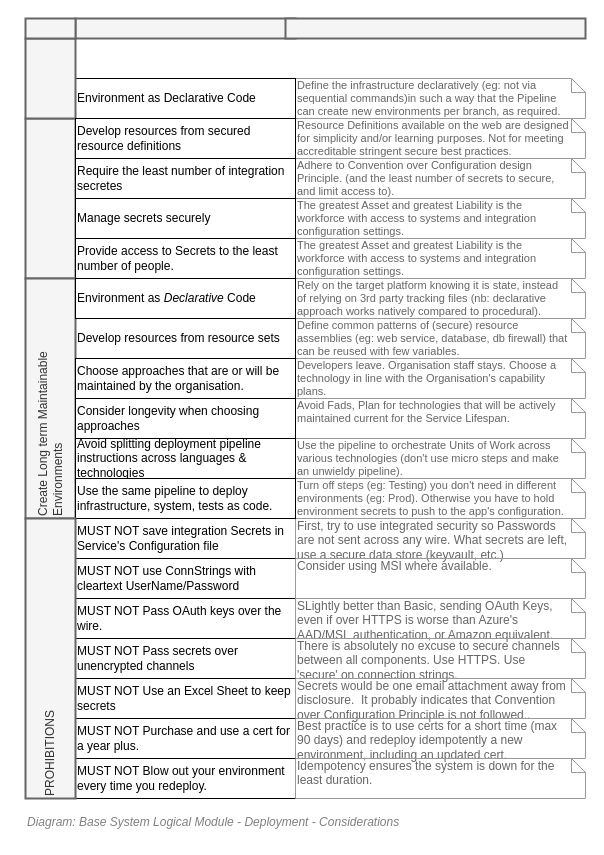
Some shapes in this 604 by 855 pixel diagram are drawn without their labels. The shapes that lost their labels are listed below. From the top down, each one's centre as x and y in pixels, then its label:
At (x=50, y=28): "DI".
At (x=185, y=28): "Statement".
At (x=435, y=28): "Rationale".
At (x=50, y=78): "Environments created by Pipeline Automation".
At (x=50, y=198): "Create Secure Environments".
